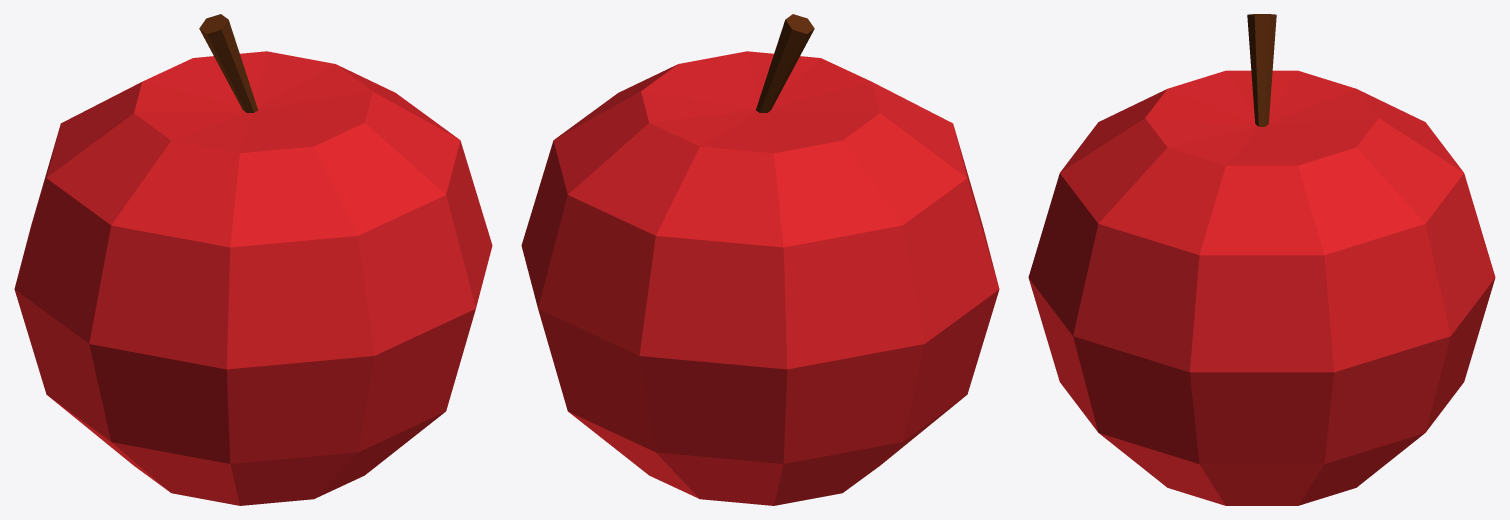
File: LowPolyGreenApple.fbx
3 renders of one model, left to right at view 1: azimuth 30°, elevation 25°; view 2: azimuth 150°, elevation 25°; view 3: azimuth 270°, elevation 25°, orthographic. The views are drawn at different scales.
Parts seen in each view (by area): view 1: Sphere; view 2: Sphere; view 3: Sphere.
Boxes of the visible parts, x1,y1,x2,y2 form: Sphere: (14,14,492,505); Sphere: (521,14,999,505); Sphere: (1028,14,1495,505).
Size of the model in its own units: 210 by 223 by 219.
